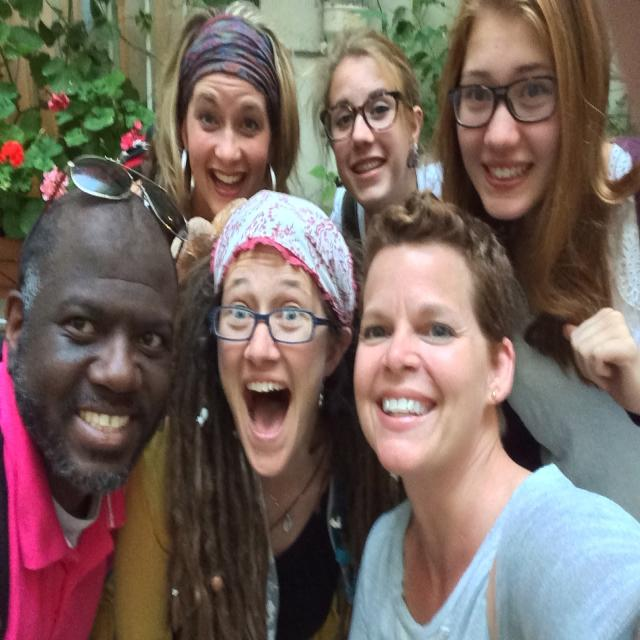body: (328, 183, 640, 640), (100, 186, 406, 639), (0, 153, 194, 640), (431, 0, 640, 423), (135, 0, 305, 227), (316, 25, 444, 288)
